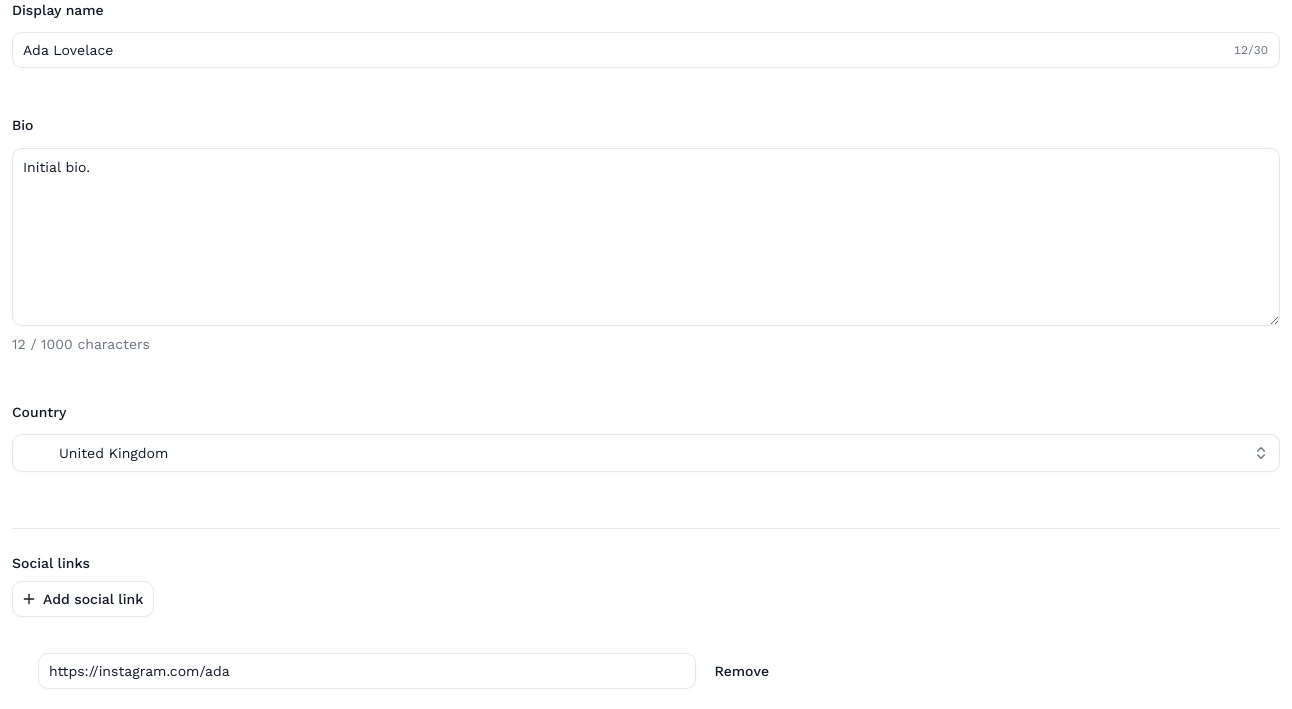
Test: ProfileIdentityForm › adds a chosen platform with focus in its URL field and keeps other fields hidden
(page scrolled)
Expected: the field labelled "LinkedIn" is not shown
Step 1. Click the button "Add social link" → x=83, y=599, box [12, 581, 154, 617]
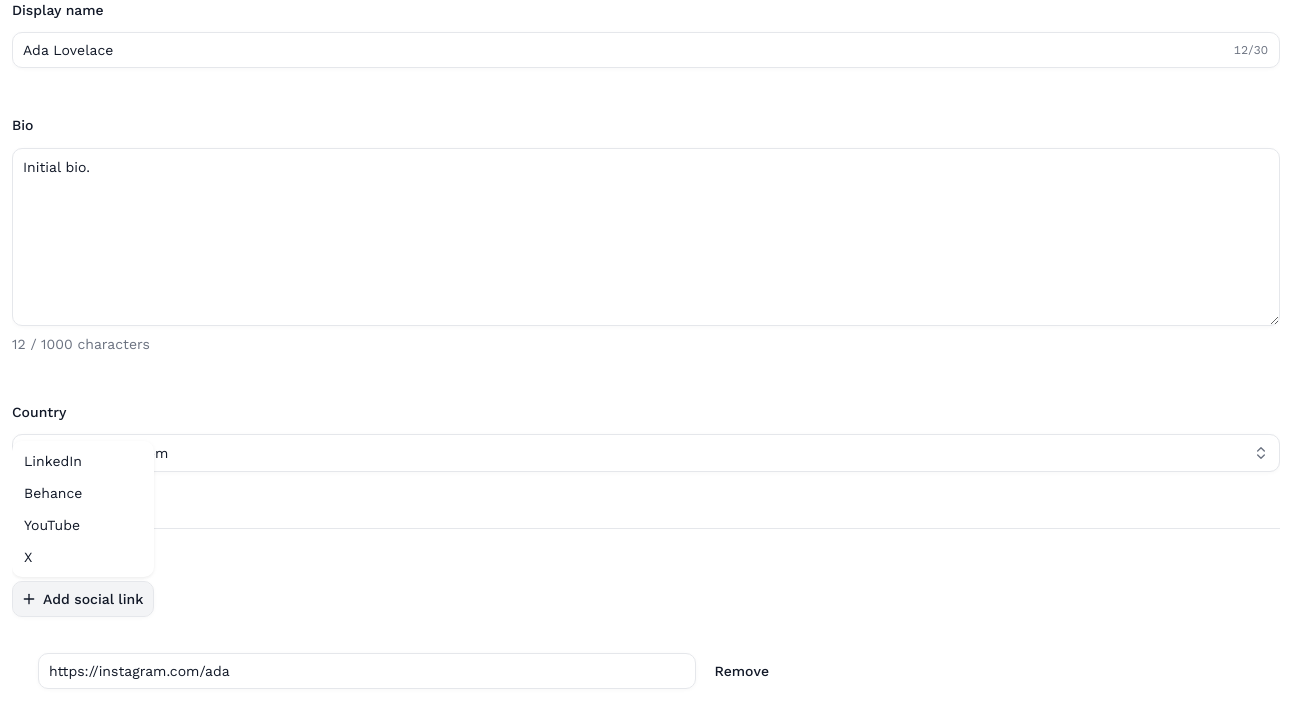
Step 2. Click the menu item "LinkedIn" → x=53, y=461, box [24, 453, 82, 469]
(page scrolled)
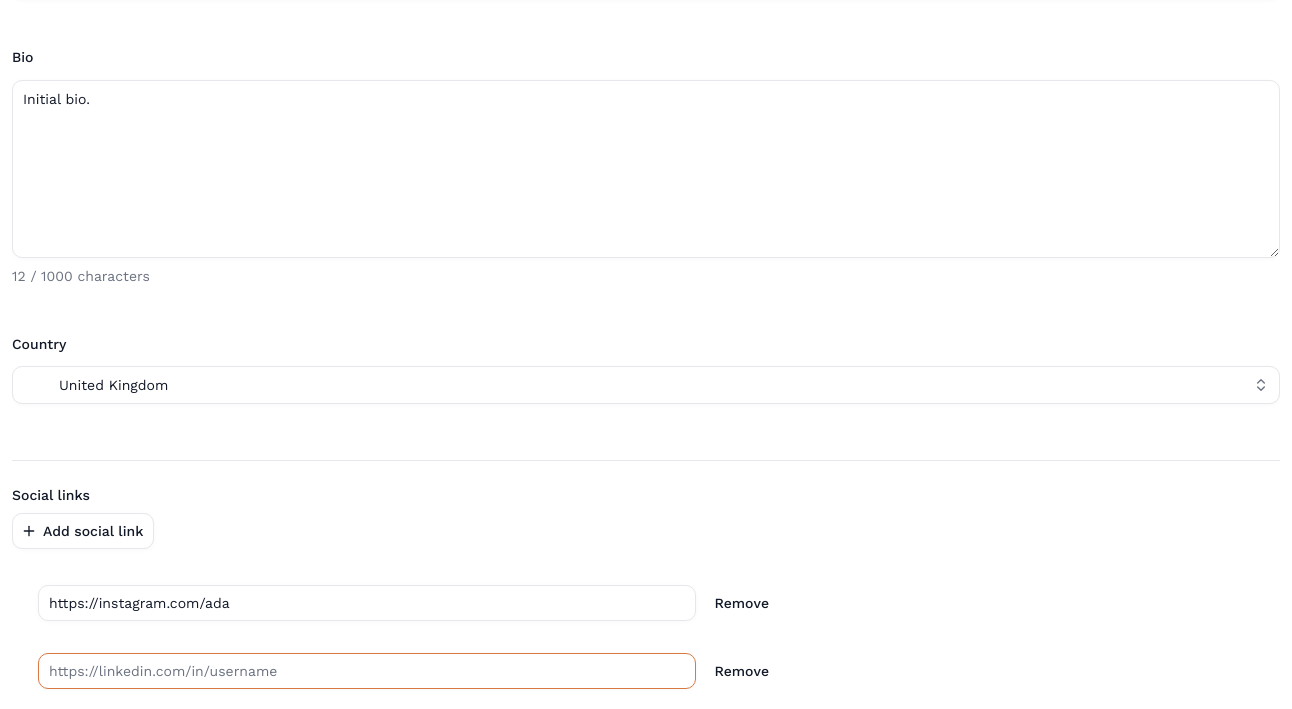
Result: the menu item "Behance" is gone
